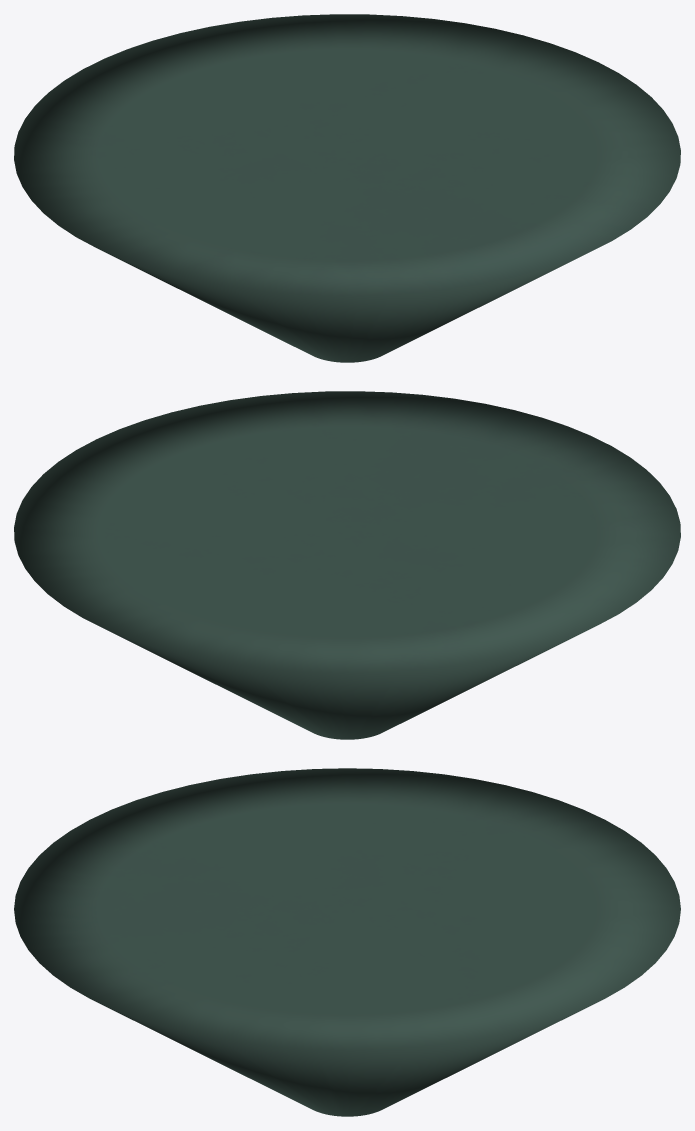
Rendered from LadleWater.fbx.
3 renders of one model, top to bottom at view 1: azimuth 30°, elevation 25°; view 2: azimuth 150°, elevation 25°; view 3: azimuth 270°, elevation 25°, orthographic.
Parts seen in each view (by area): view 1: LadleWater; view 2: LadleWater; view 3: LadleWater.
Part boxes in pixels (bbox=[...]): LadleWater: bbox=[14, 14, 680, 362]; LadleWater: bbox=[14, 391, 680, 739]; LadleWater: bbox=[14, 768, 680, 1116].
Bounding box in the file's own units: 0.088 × 0.0274 × 0.088.
1 material, 1 textured.
